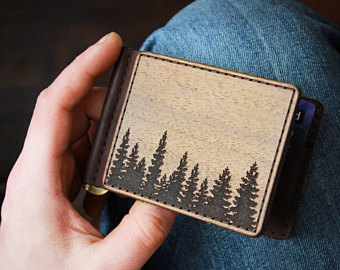monedero: (80, 43, 326, 243)
